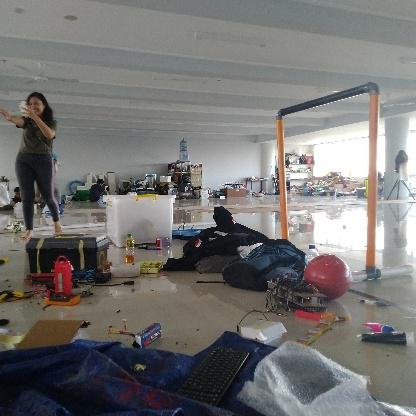red_buoy: (304, 252, 352, 302)
